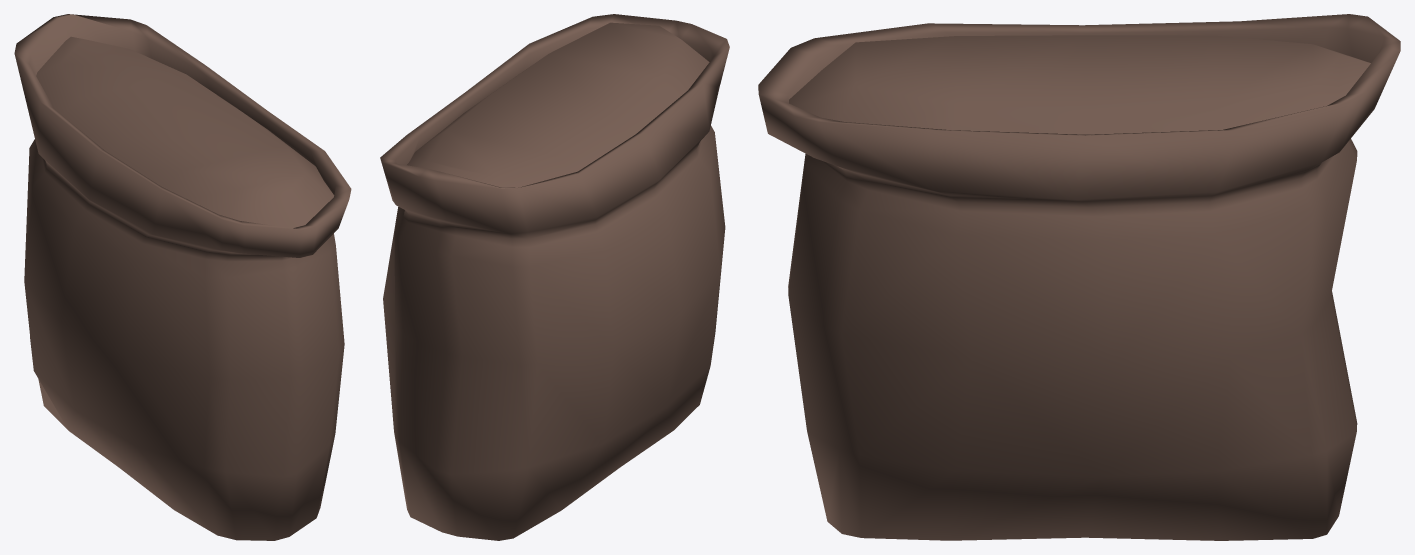
The model's file is SeedBag4.fbx.
3 views of the same model, side by side, from view 1: azimuth 30°, elevation 25°; view 2: azimuth 150°, elevation 25°; view 3: azimuth 270°, elevation 25° (orthographic). The views are drawn at different scales.
Parts seen in each view (by area): view 1: High.003; view 2: High.003; view 3: High.003.
Boxes of the visible parts, bbox=[...] form: High.003: bbox=[14, 14, 351, 540]; High.003: bbox=[380, 14, 729, 540]; High.003: bbox=[758, 14, 1400, 540].
Size of the model in its own units: 0.4503 by 0.8097 by 0.6676.
